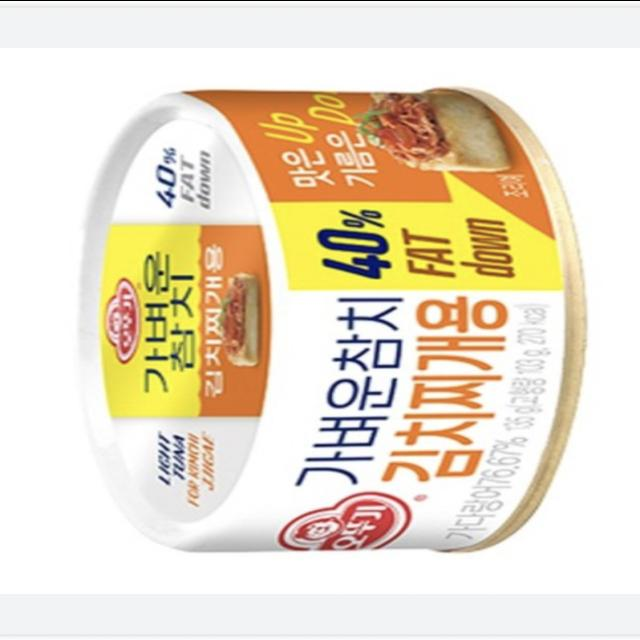can: (51, 66, 600, 567)
